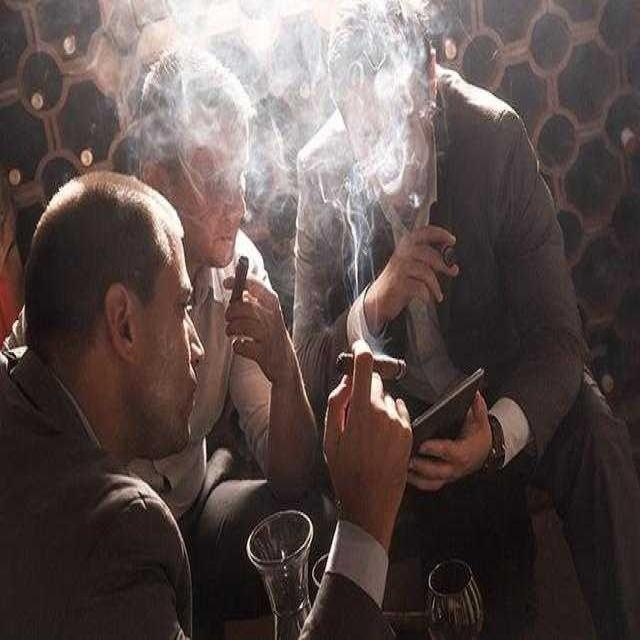Smooking: (333, 337, 411, 387), (228, 240, 254, 348)
